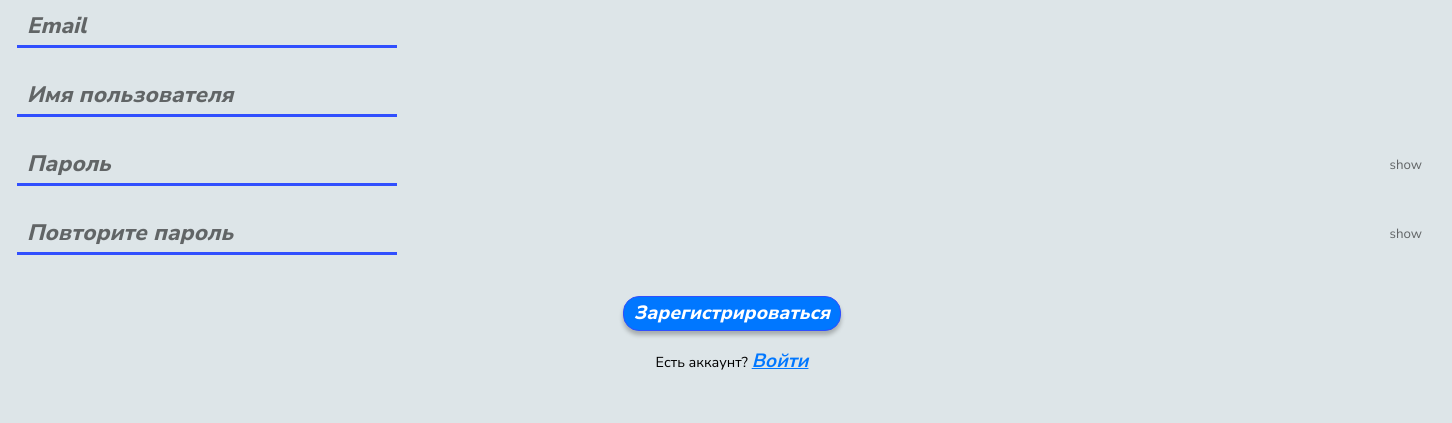
Test: RegisterForm › should show a generic error message when the mutation rejects with a non-HttpError
Type "user@example.com" into the field with placeholder "Email" at [207, 26], box [17,5,397,48]
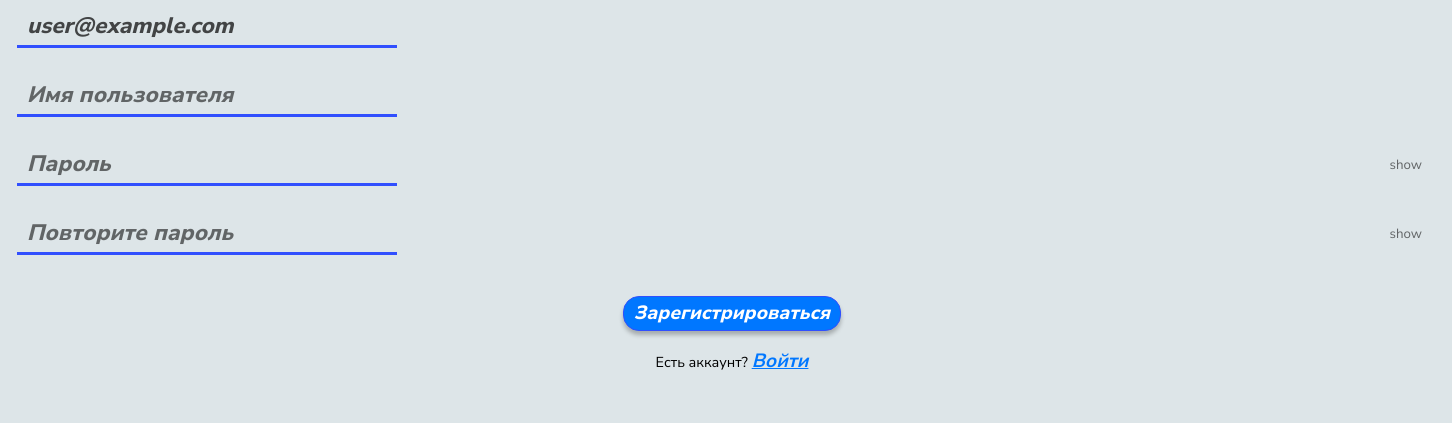
Type "validuser" into the field with placeholder "Имя пользователя" at [207, 96], box [17,74,397,117]
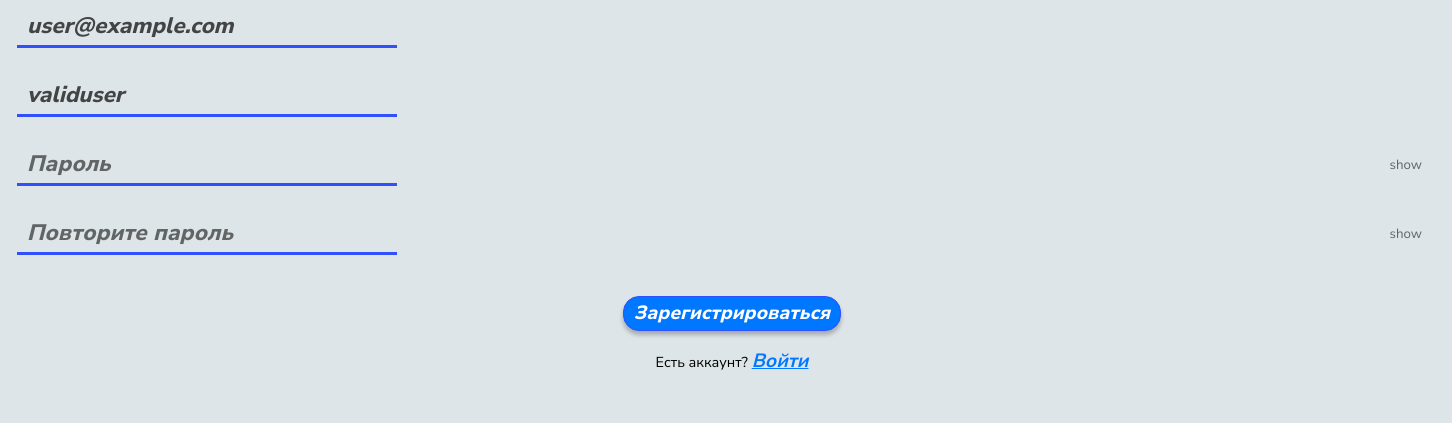
Type "secret1" into the password field with placeholder "Пароль" at [207, 164], box [17,143,397,186]
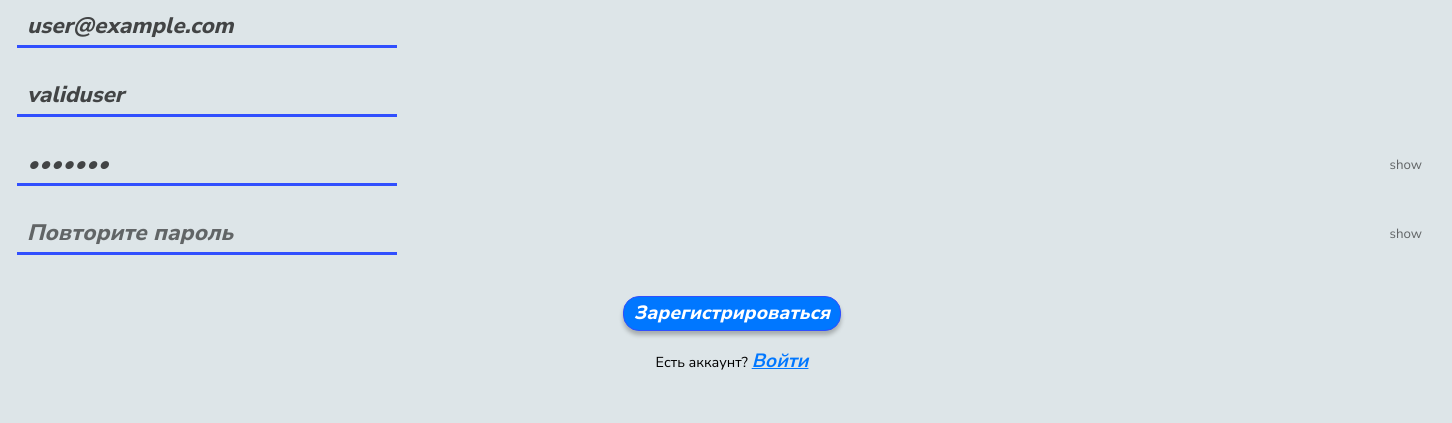
Type "secret1" into the password field with placeholder "Повторите пароль" at [207, 234], box [17,212,397,255]
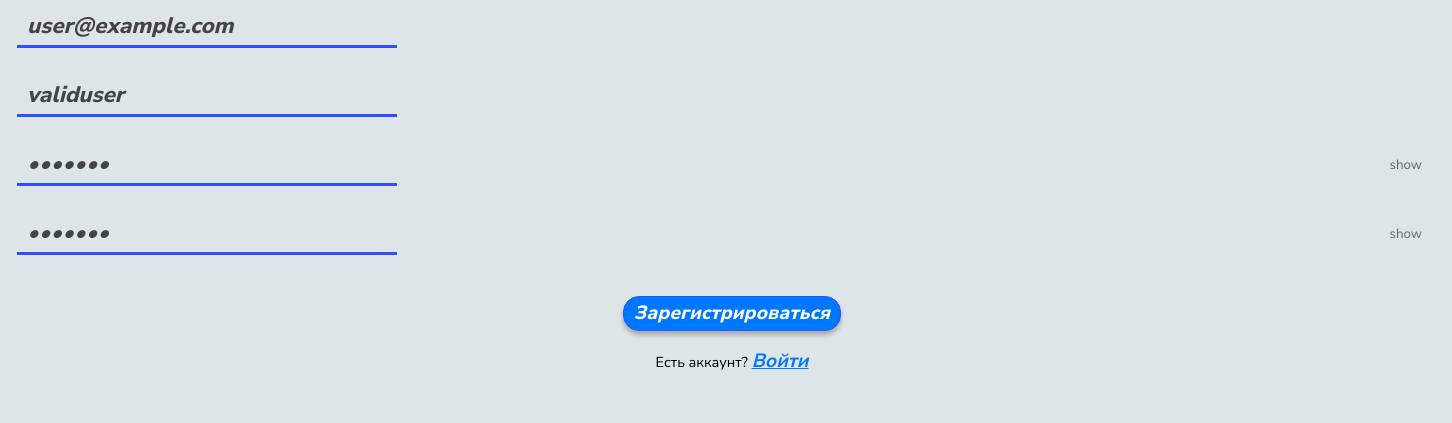
Click the button "Зарегистрироваться" at [732, 313], box [623,296,841,331]
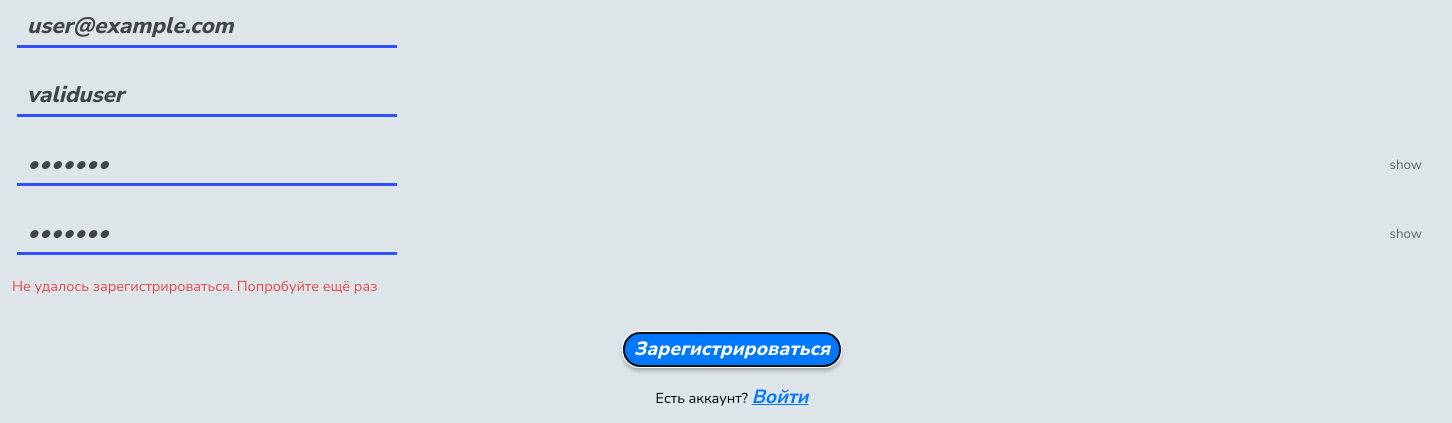
Expected: the text "Не удалось зарегистрироваться. Попробуйте ещё раз" is shown, [12,276,1451,296]
